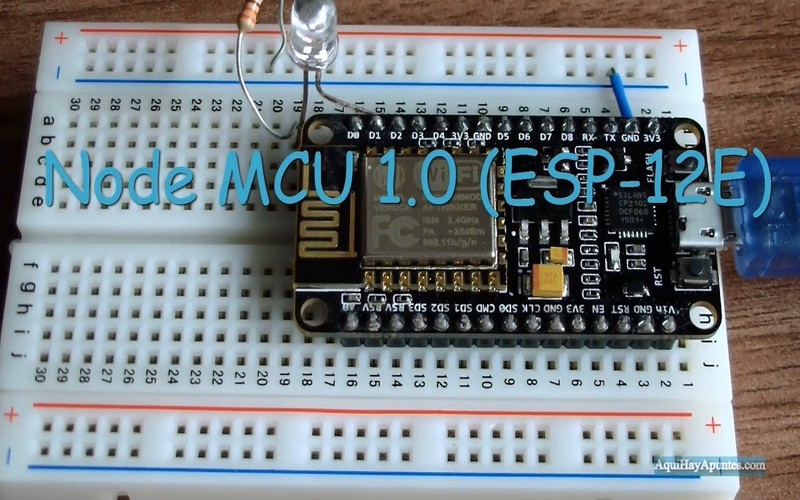IoT Sensor: (272, 97, 726, 352)
